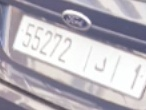1: (127, 62, 143, 91)
2: (58, 36, 74, 64), (38, 30, 54, 55)
5: (21, 19, 35, 49), (31, 25, 45, 52)
7: (50, 32, 64, 56)
d: (93, 52, 110, 73)
